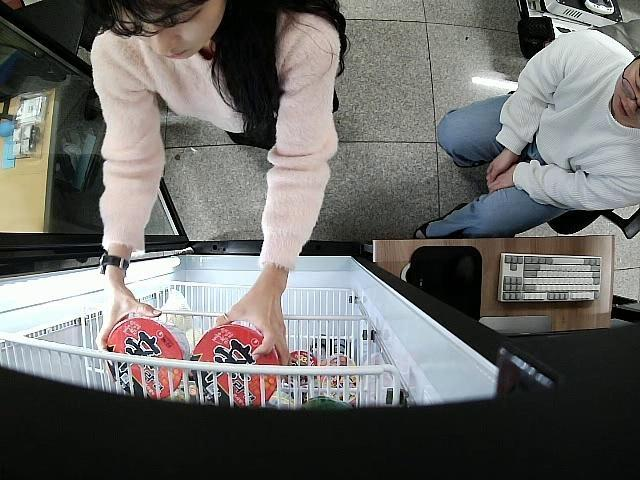01_ShinRamen_L: (189, 322, 280, 406), (102, 316, 190, 398)
